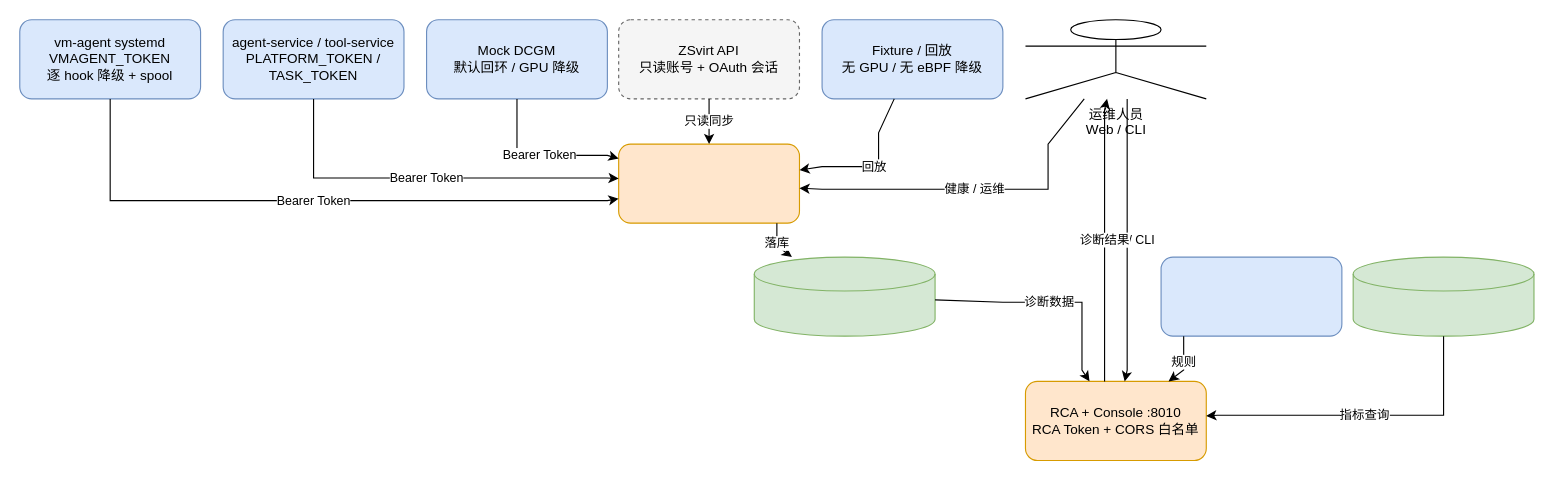
The diagram is 1554 pixels wide and 480 high, and some of its shapes have lost their labels. The centre of each missing label's shape, as x and y in pixels:
Platform :8000 非回环必须配置 API Token: the point at 708,183
Prometheus / cAdvisor 默认回环，PROM_BIND 可覆盖: the point at 1443,296
SQLite WAL resources / events / evidence / clusters: the point at 844,296
YAML Rule Library: the point at 1251,296
